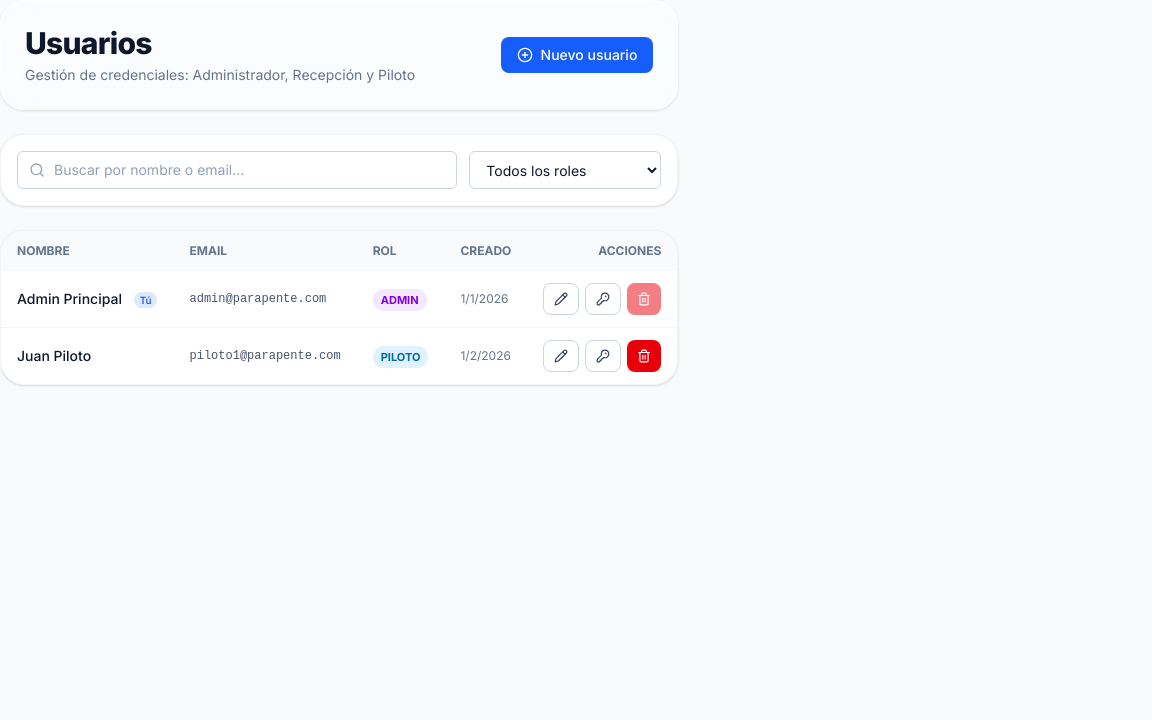
Test: AdminUsersPage - Edición de usuario › 2. El modal de nuevo usuario desactiva el autorrellenado de contraseñas guardadas del navegador
Note: Abrir modal de nuevo usuario
Click the button "Nuevo usuario". click: coordinates (577, 55)
box: [501,37,653,73]
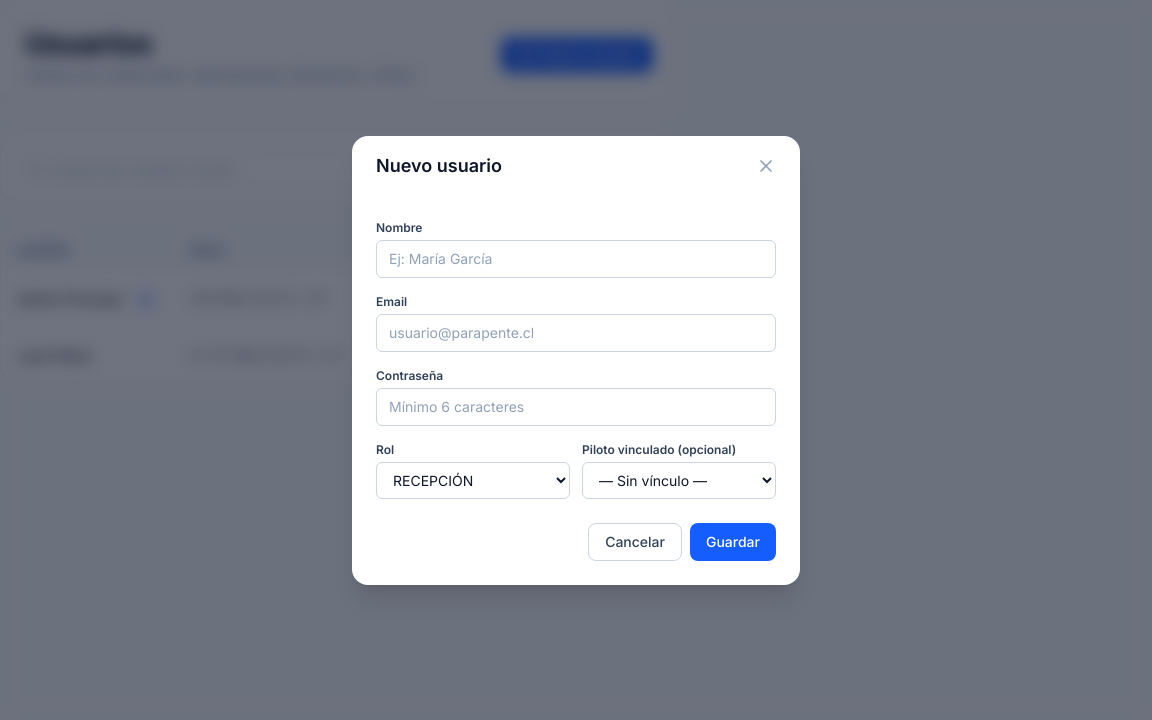
Check: the heading "Nuevo usuario" is shown, box [376,152,502,180]
